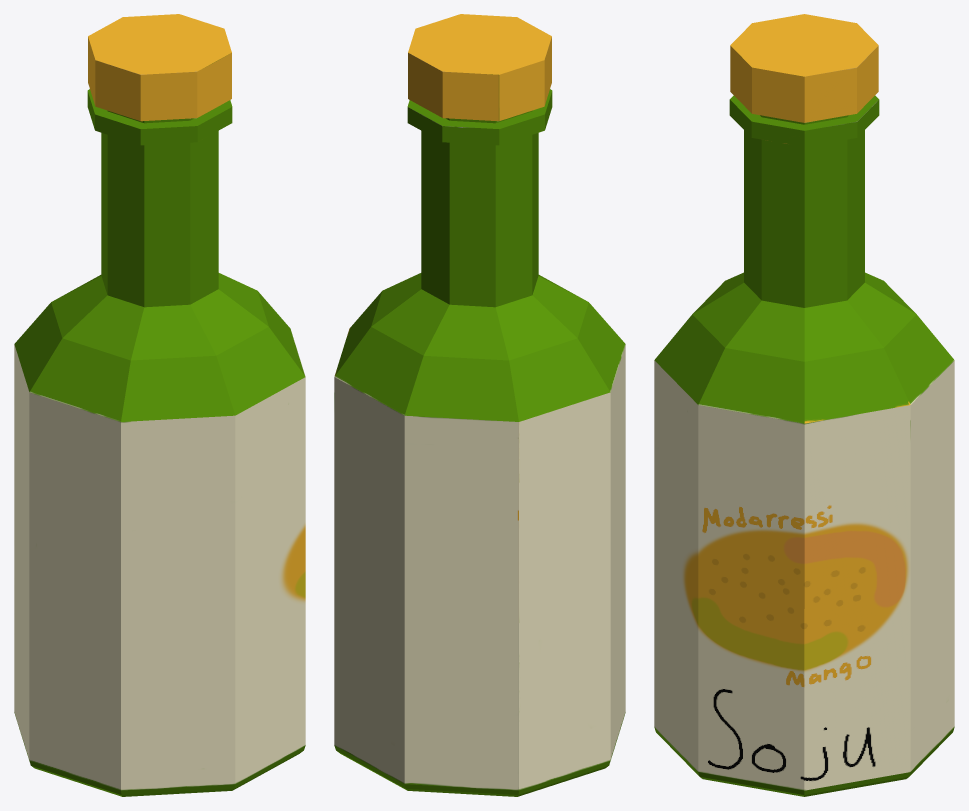
Rendered from soju.fbx.
The picture shows the model from 3 angles, left to right: view 1: azimuth 30°, elevation 25°; view 2: azimuth 150°, elevation 25°; view 3: azimuth 270°, elevation 25°; orthographic projection.
Parts seen in each view (by area): view 1: Cylinder; view 2: Cylinder; view 3: Cylinder.
Boxes of the visible parts, bbox=[...] form: Cylinder: bbox=[14, 14, 305, 796]; Cylinder: bbox=[334, 14, 625, 796]; Cylinder: bbox=[654, 14, 954, 796].
Bounding box in the file's own units: 200 × 509 × 200.
Materials: 1 (1 with a texture image).
